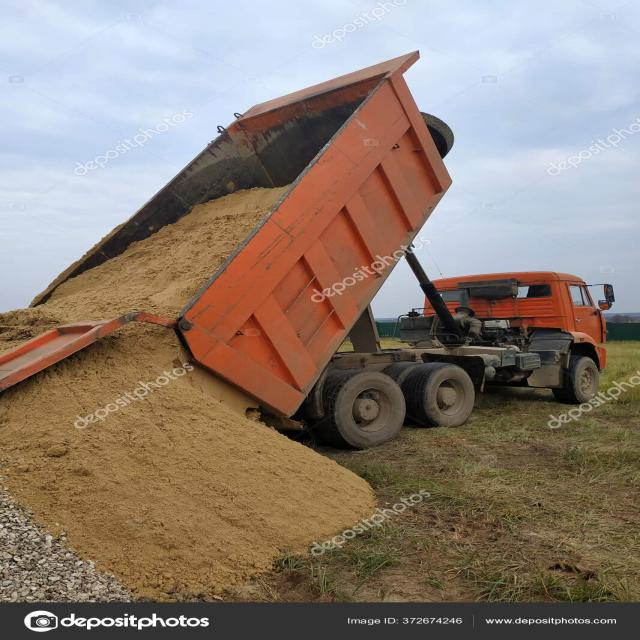machinery: (78, 52, 621, 432)
